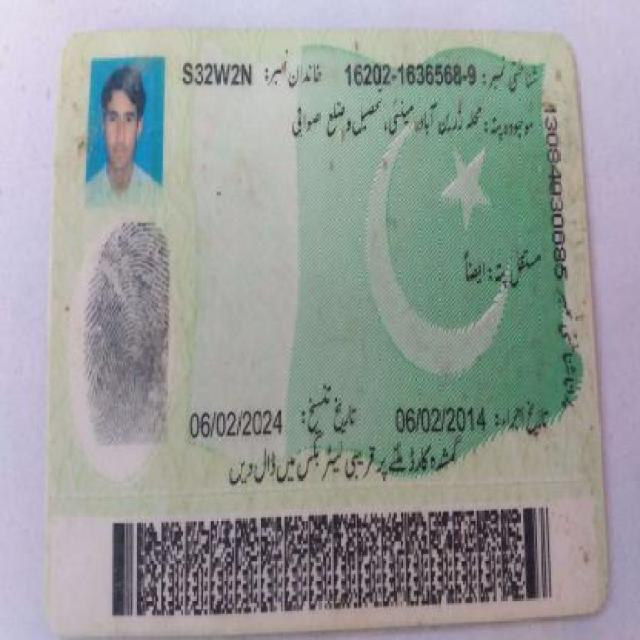Back: (52, 29, 594, 611)
